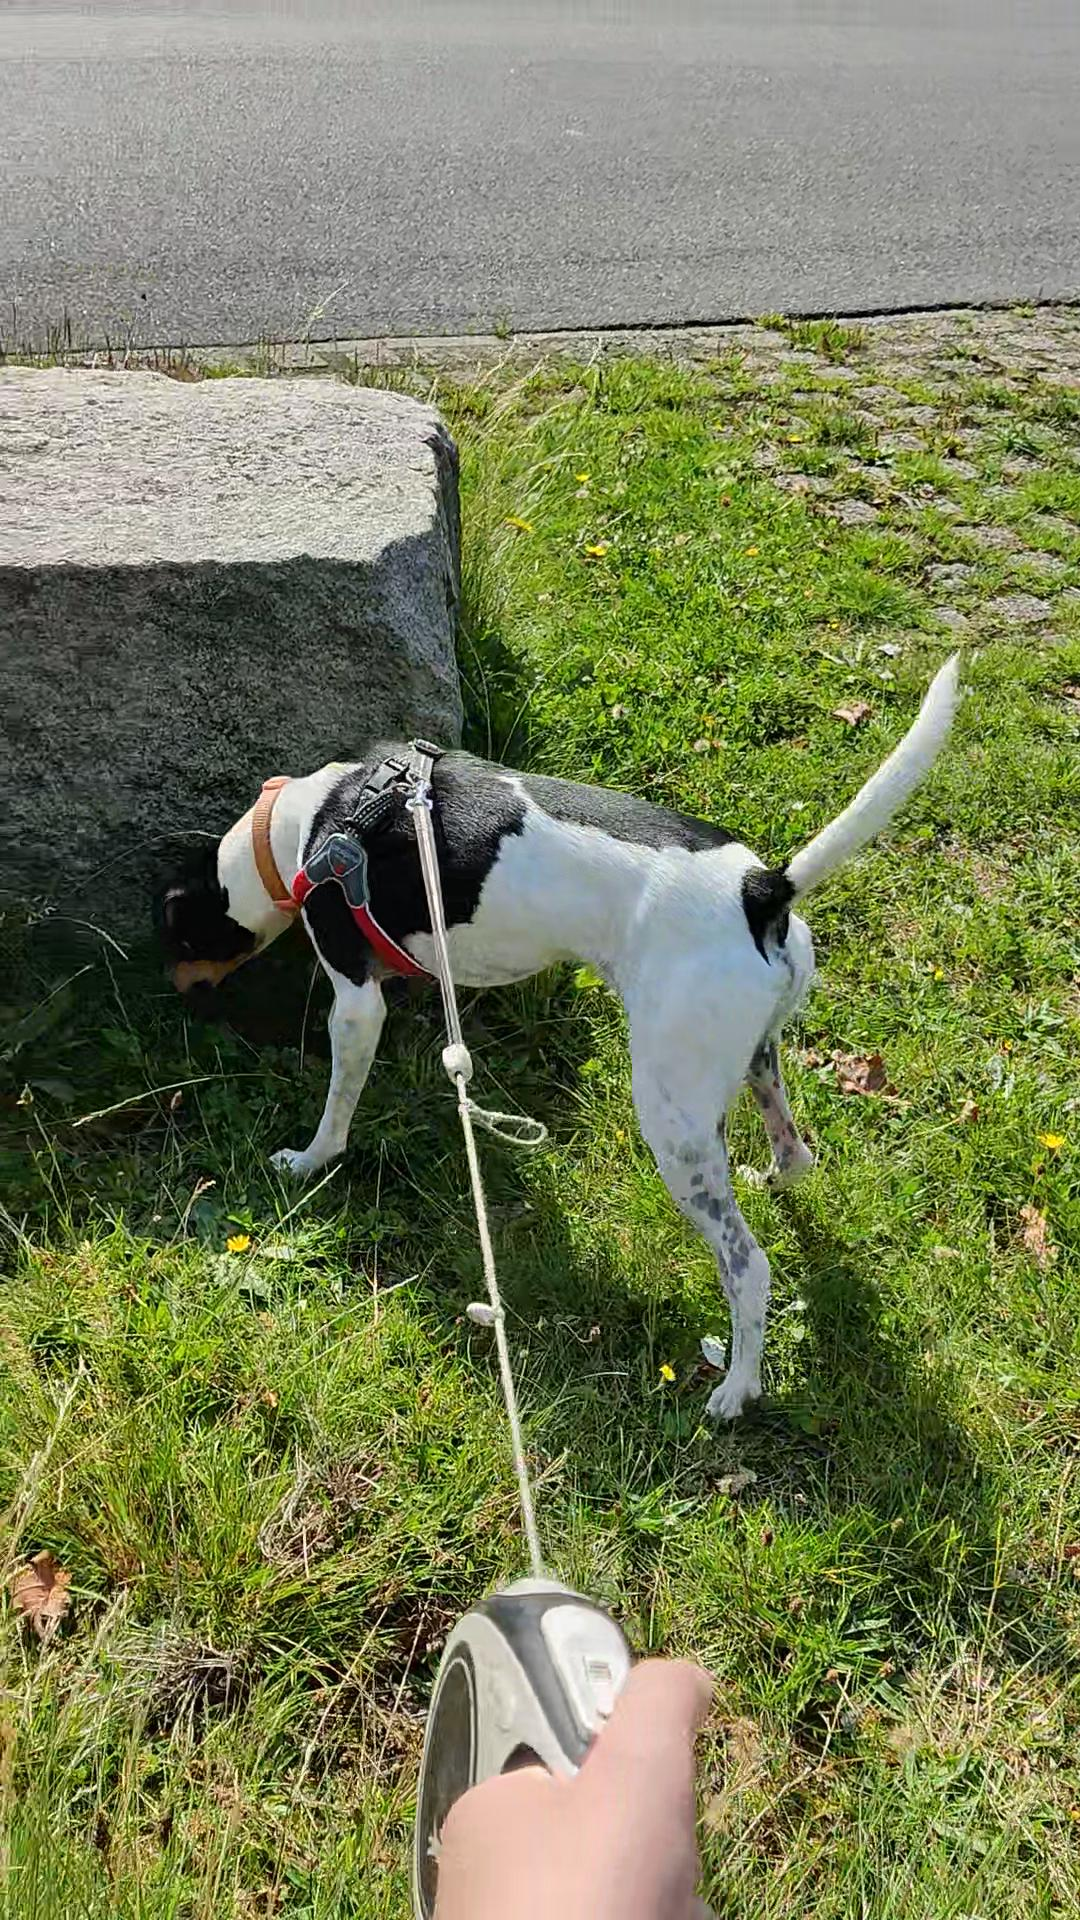Dog: (121, 632, 976, 1424)
